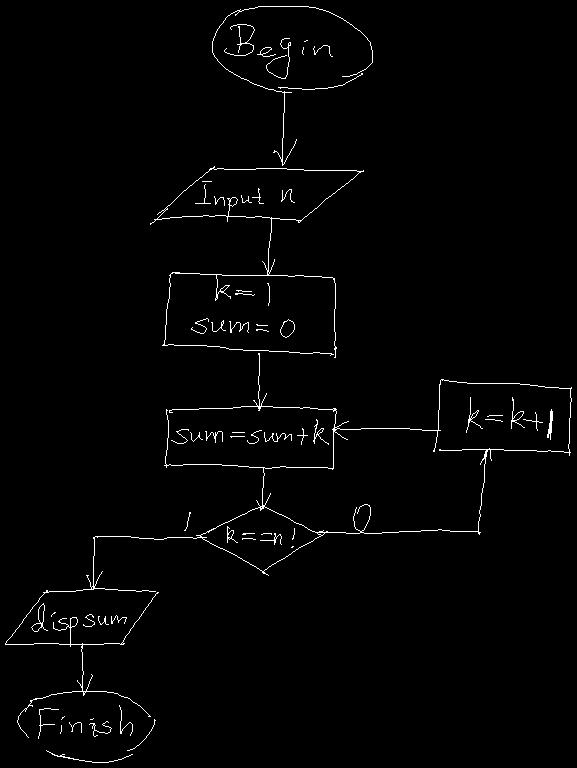arrow: (317, 448, 491, 534), (86, 536, 206, 589), (332, 421, 440, 439), (273, 91, 296, 165), (77, 643, 92, 695), (253, 353, 266, 410), (262, 217, 274, 275), (256, 468, 270, 510)
data: (150, 166, 363, 224), (5, 588, 158, 644)
decision: (196, 505, 327, 575)
process: (162, 272, 336, 357), (164, 406, 336, 469), (433, 379, 571, 455)
terminator: (212, 6, 372, 92), (17, 691, 155, 762)
text: (191, 275, 294, 337), (224, 24, 332, 78), (31, 603, 126, 646), (195, 181, 294, 221), (171, 419, 328, 444), (466, 397, 552, 439), (38, 705, 132, 738), (227, 526, 294, 547), (353, 504, 370, 531), (184, 512, 190, 530)
